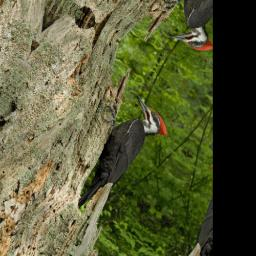Woodpecker: (57, 81, 176, 235)
